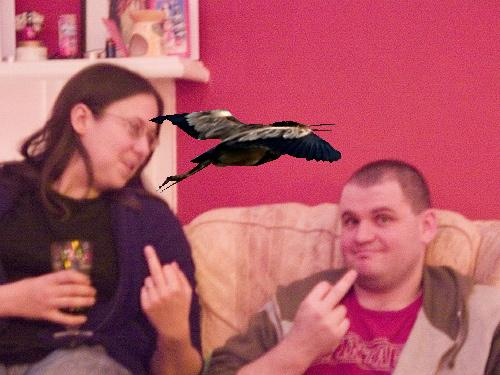tampered: (150, 110, 341, 193)
